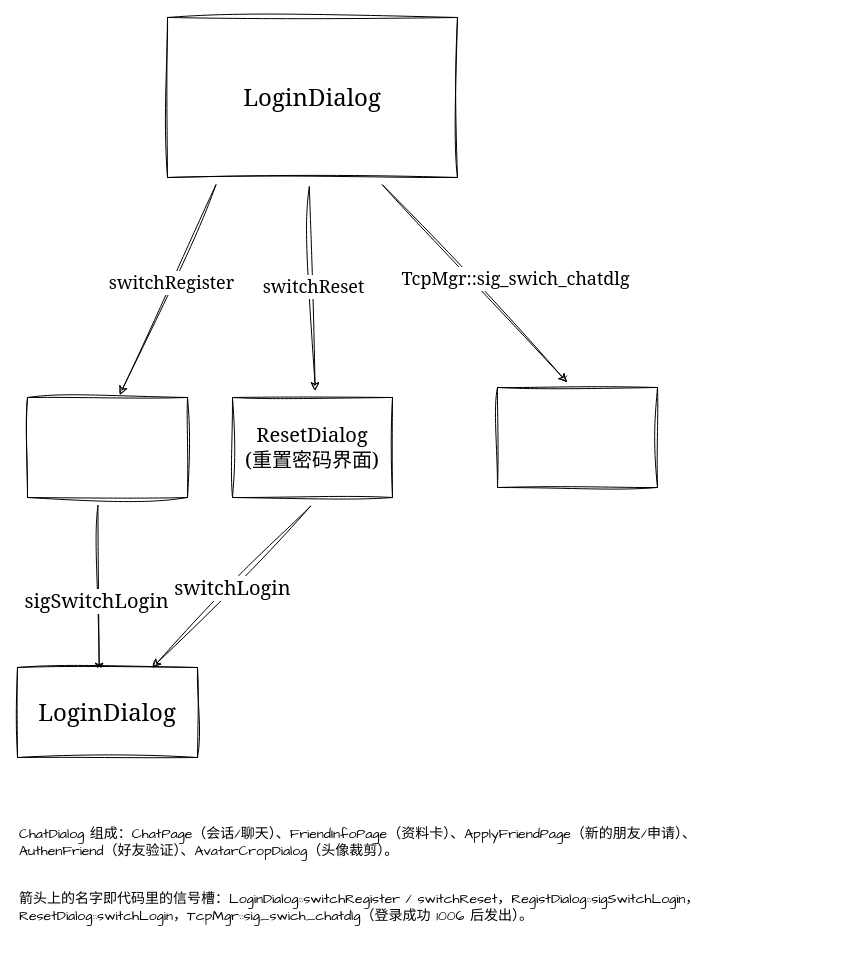
The diagram is 855 pixels wide and 955 high, and some of its shapes have lost their labels. Here are the shapes that lost their labels. From the top down, the centre of each, then its label:
the point at 107,447: RegistDialog (注册界面)
the point at 577,437: ChatDialog (主聊天界面)
